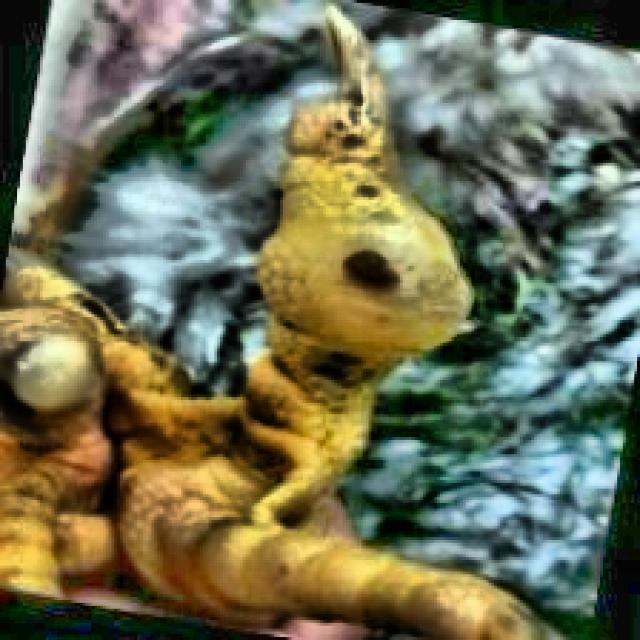Bumble foot: (262, 163, 466, 361)
